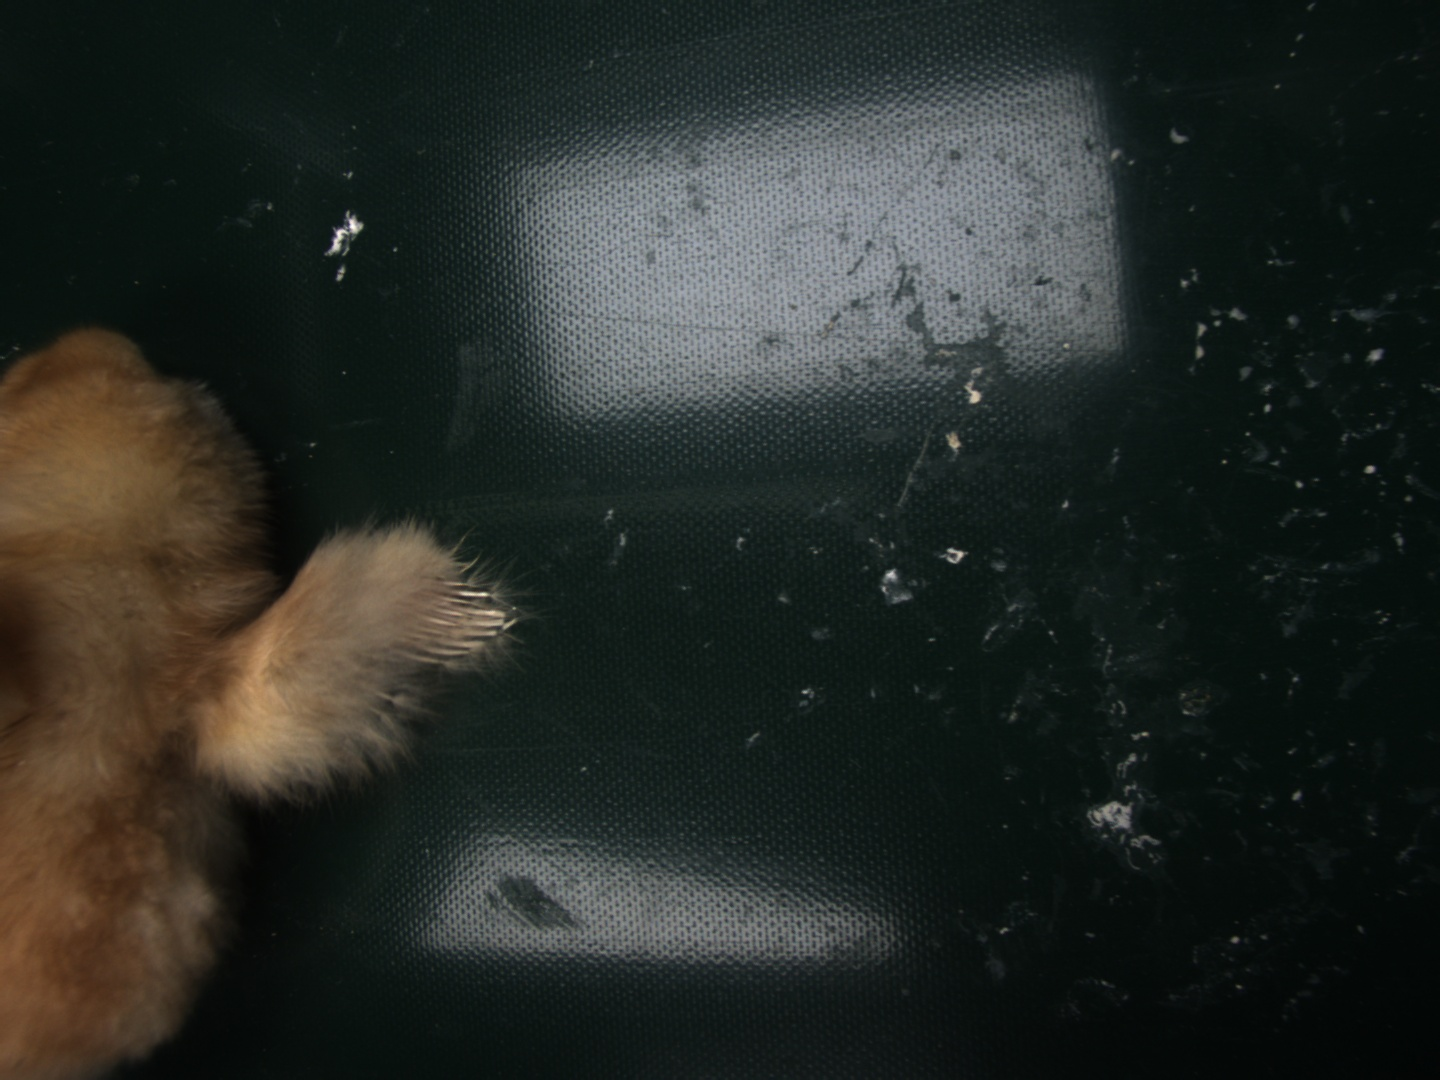female: (399, 582, 508, 665)
